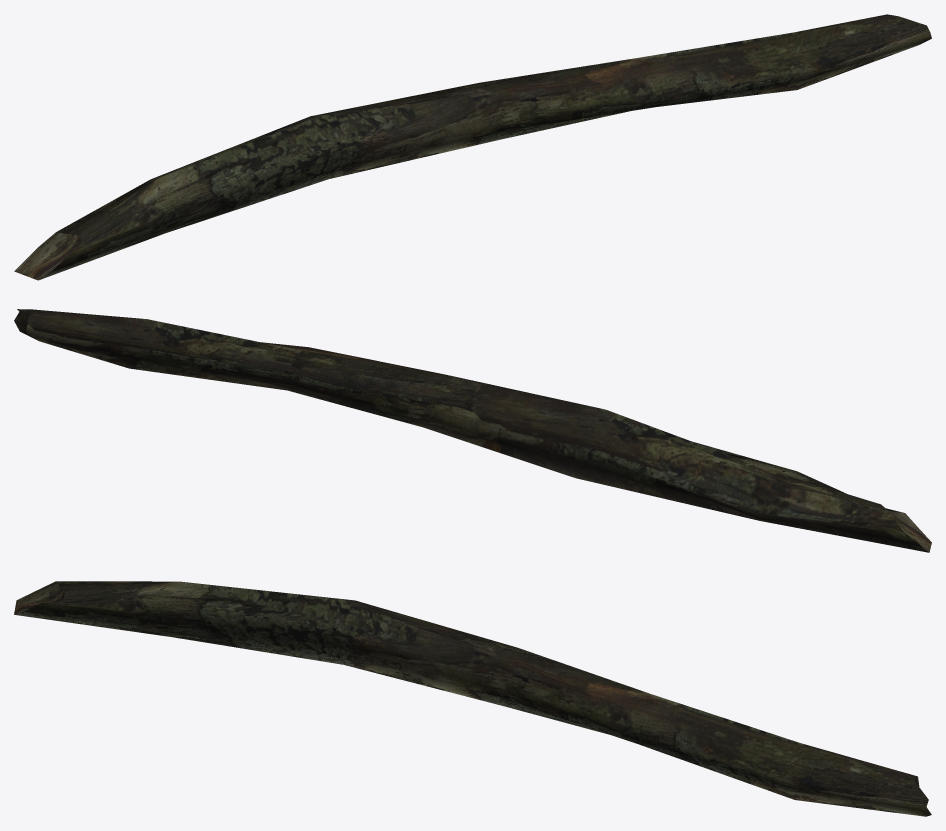
The model's file is prop_log_ab.FBX.
3 renders of one model, top to bottom at view 1: azimuth 30°, elevation 25°; view 2: azimuth 150°, elevation 25°; view 3: azimuth 330°, elevation 25°, orthographic.
Visible parts, largest first — view 1: prop_log_ab; view 2: prop_log_ab; view 3: prop_log_ab.
Boxes of the visible parts, bbox=[...] form: prop_log_ab: bbox=[14, 14, 931, 280]; prop_log_ab: bbox=[14, 309, 931, 552]; prop_log_ab: bbox=[14, 581, 931, 816].
Size of the model in its own units: 2.52 by 0.2256 by 0.2119.
Materials: 1 (1 with a texture image).
